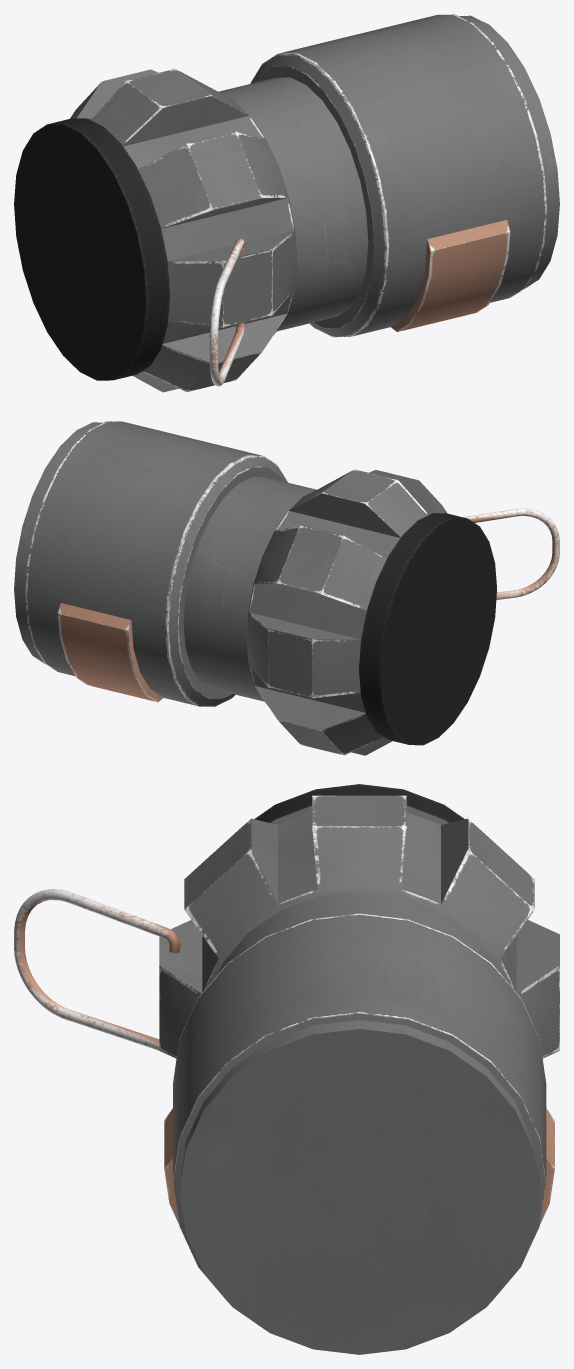
The model's file is pommel_20_r_c.glb.
The picture shows the model from 3 angles, top to bottom: view 1: azimuth 30°, elevation 25°; view 2: azimuth 150°, elevation 25°; view 3: azimuth 270°, elevation 25°; orthographic projection. The views are drawn at different scales.
Visible parts, largest first — view 1: pommel_20_r_c_lod0; view 2: pommel_20_r_c_lod0; view 3: pommel_20_r_c_lod0.
Part boxes in pixels (bbox=[...]): pommel_20_r_c_lod0: bbox=[14, 14, 559, 392]; pommel_20_r_c_lod0: bbox=[14, 421, 559, 755]; pommel_20_r_c_lod0: bbox=[14, 784, 559, 1354].
Size of what is drawn, in the model's own units: 0.0502 by 0.0331 by 0.045.
Materials: 1 (1 with a texture image).
